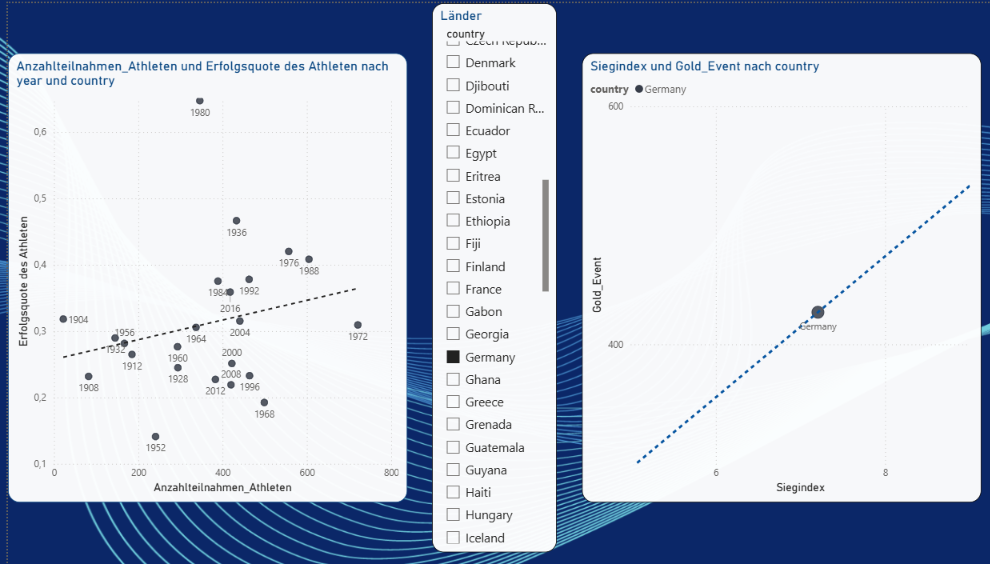

This screenshot's page, from the dashboard's own definition file:
{"tool":"powerbi","page":{"name":"Effizienz_Land","canvas":[1280,720],"ordinal":4},"visuals":[{"type":"slicer","title":"Länder","fields":{"Values":["public dim_country.country"]},"box":[544,0,160,704],"z":0},{"type":"scatterChart","fields":{"X":["metrics.Siegindex"],"Series":["public dim_country.country"],"Y":["kontrol.Gold_Event"]},"box":[736,64,512,576],"z":1000},{"type":"scatterChart","fields":{"X":["public dim_athlete_season.Anzahlteilnahmen_Athleten"],"Y":["public dim_athlete_season.Erfolgsquote des Athleten"],"Series":["public dim_country.country"],"Category":["public dim_date.year"]},"box":[0,64,512,576],"z":2000}]}

Visuals, with their boxes in screenshot pixels (x1, y1, x2, y2), scaled from the page's 1280x720 canvas onto the 990x564 screenshot:
"Länder" slicer: 421, 0, 544, 551
scatterChart - metrics.Siegindex x public dim_country.country: 569, 50, 965, 501
scatterChart - public dim_athlete_season.Anzahlteilnahmen_Athleten x public dim_athlete_season.Erfolgsquote des Athleten: 0, 50, 396, 501
